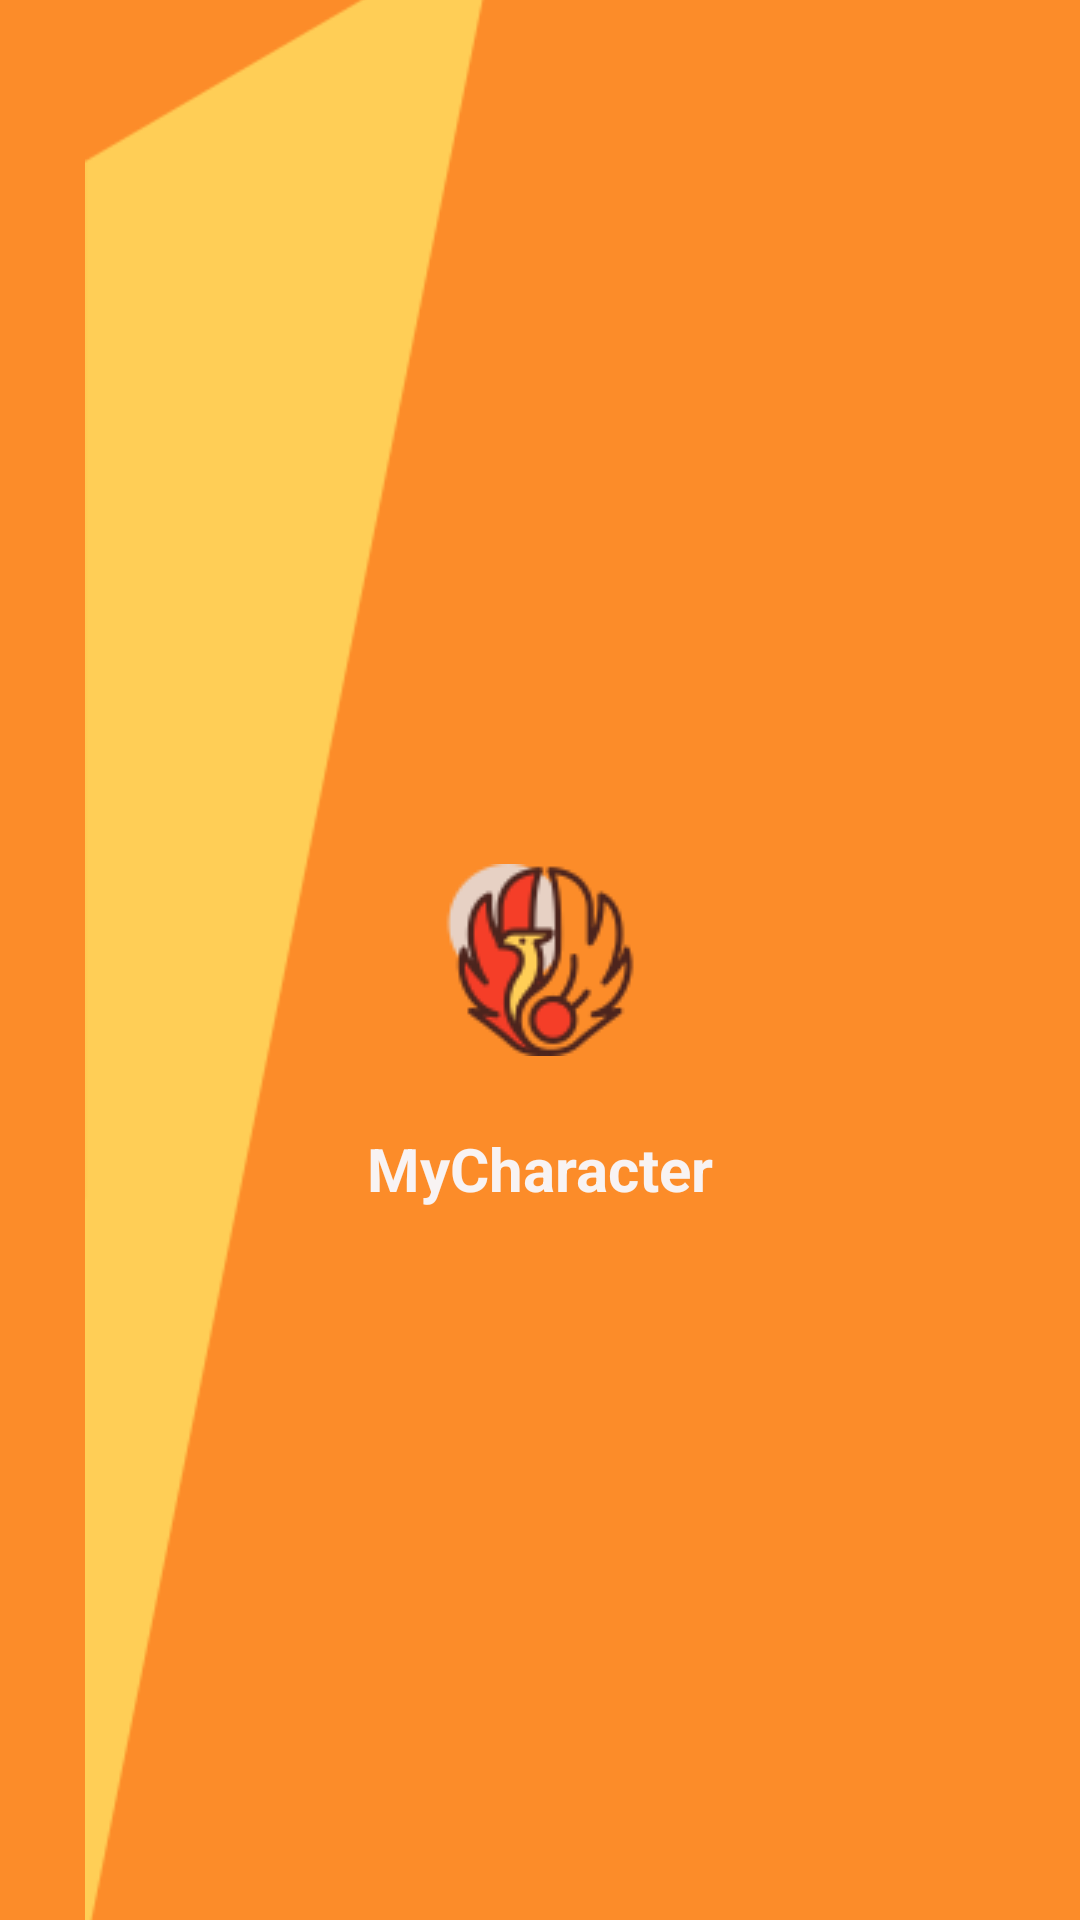

Locate icon controls on the screen. Image size 1080x1920, boxes as (x1, y1, x2, y2).
fenix: (447, 864, 634, 1056)
